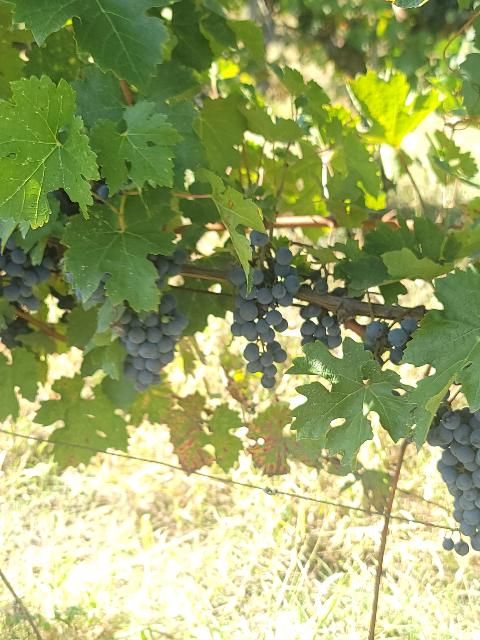grapes: (226, 230, 300, 389), (426, 395, 480, 555), (116, 294, 189, 391)
